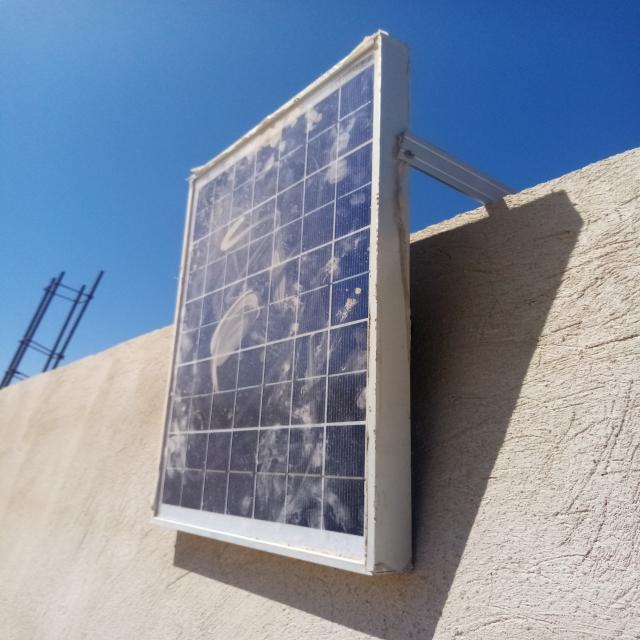faulty: (154, 37, 384, 571)
